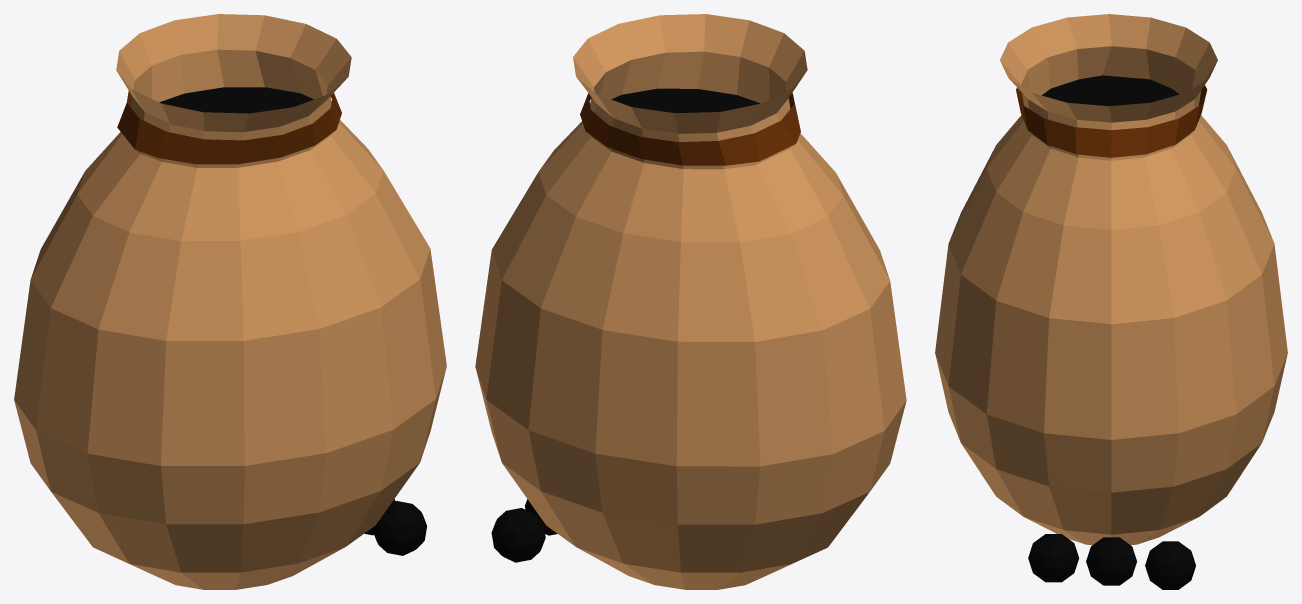
Rendered from ammoPouch.fbx.
3 renders of one model, left to right at view 1: azimuth 30°, elevation 25°; view 2: azimuth 150°, elevation 25°; view 3: azimuth 270°, elevation 25°, orthographic. The views are drawn at different scales.
Visible parts, largest first — view 1: Sphere; view 2: Sphere; view 3: Sphere.
Boxes of the visible parts, <box> form: Sphere: <box>14,14,446,589</box>; Sphere: <box>475,14,906,589</box>; Sphere: <box>935,14,1287,589</box>.
Size of the model in its own units: 161 by 202 by 138.
Materials: 1 (1 with a texture image).
